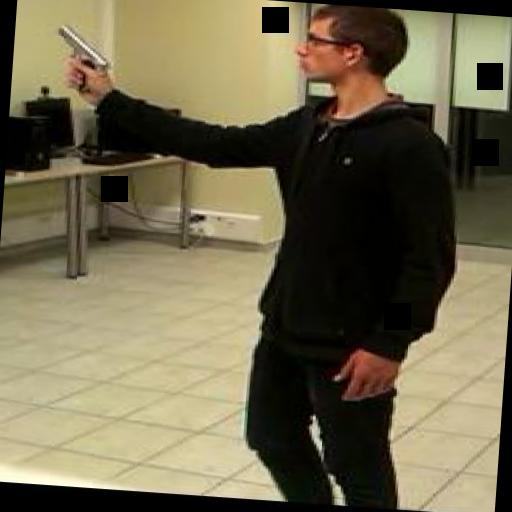Handgun: (50, 24, 120, 96)
